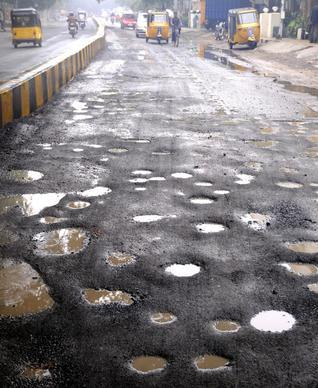pothole: (24, 208, 118, 266), (24, 208, 99, 259), (0, 270, 64, 313), (242, 298, 304, 340), (152, 244, 205, 286), (184, 345, 250, 376), (79, 284, 153, 311)
